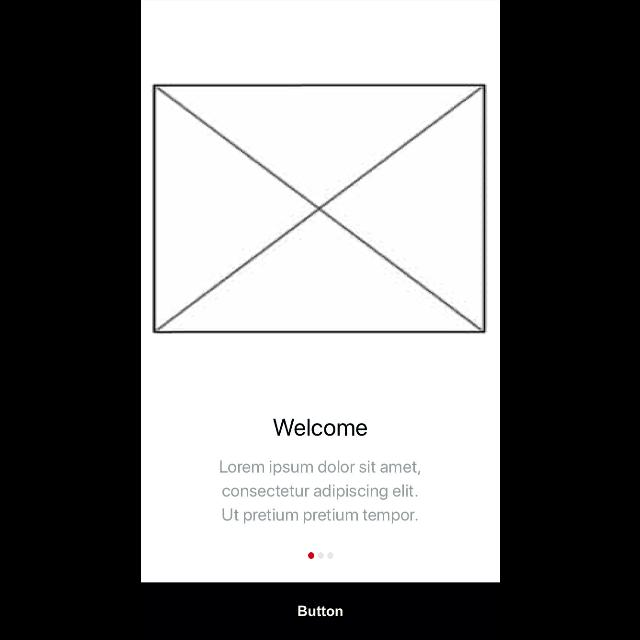image: (152, 83, 486, 334)
pageindicator: (307, 552, 333, 560)
text: (218, 461, 422, 524), (272, 418, 366, 436)
textbutton: (140, 582, 500, 640)
